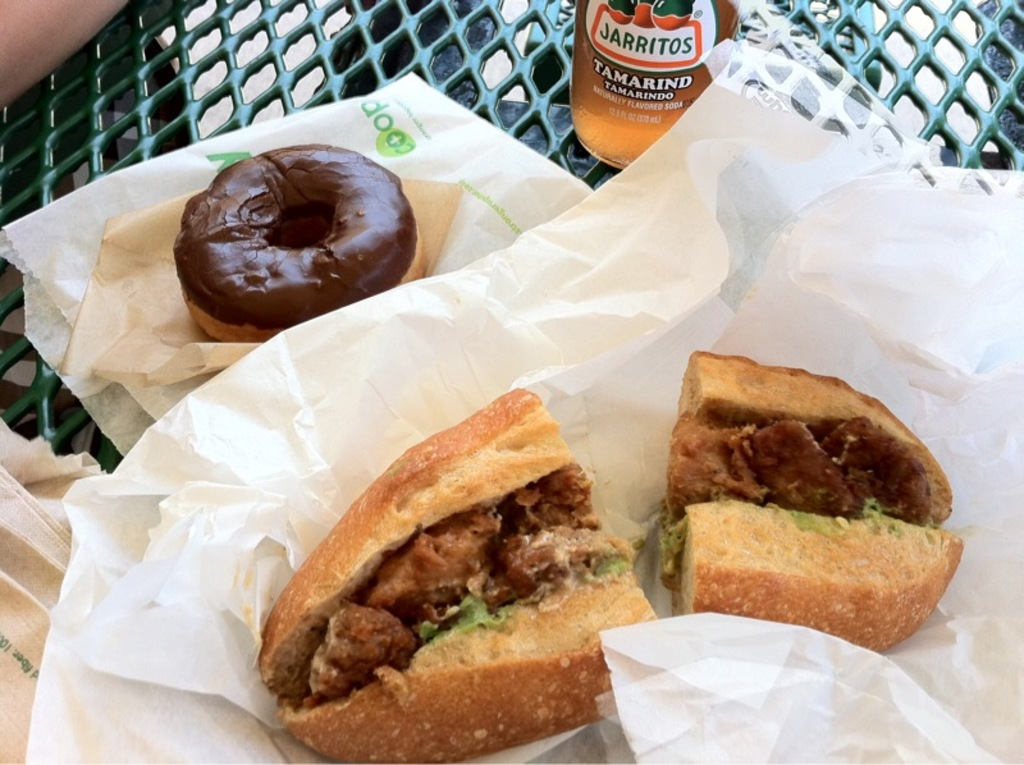Hamburger: (252, 386, 655, 763), (647, 347, 962, 657)
